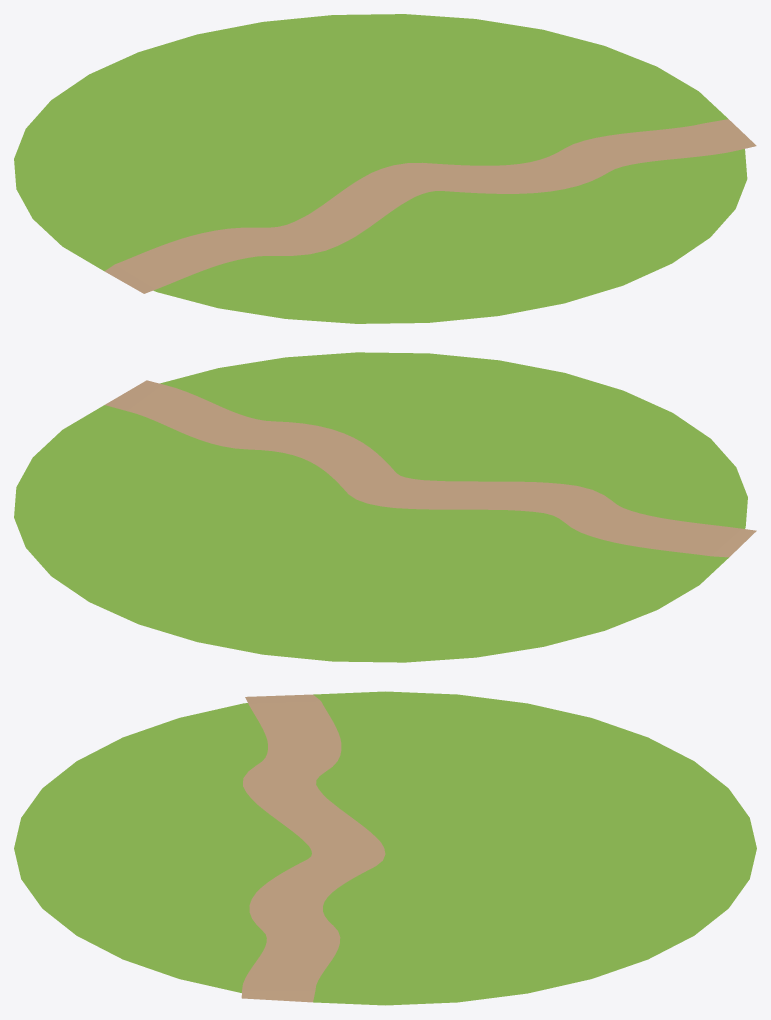
The model's file is trava i doroga (2).fbx.
3 views of the same model, one above another, from view 1: azimuth 30°, elevation 25°; view 2: azimuth 150°, elevation 25°; view 3: azimuth 270°, elevation 25° (orthographic).
Parts seen in each view (by area): view 1: trava i doroga; view 2: trava i doroga; view 3: trava i doroga.
Boxes of the visible parts, x1,y1,x2,y2 form: trava i doroga: [14, 14, 756, 323]; trava i doroga: [14, 352, 756, 662]; trava i doroga: [14, 691, 756, 1005].
Bounding box in the file's own units: 29.46 × 0.0251 × 29.46.
